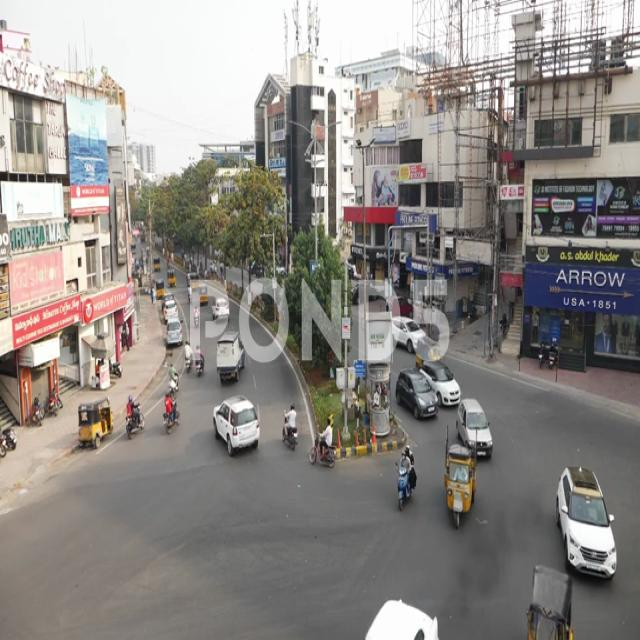car: (555, 471, 619, 579), (212, 400, 257, 457), (397, 368, 437, 420), (466, 409, 496, 455), (438, 366, 463, 404), (158, 286, 176, 306)
motorbike: (397, 446, 417, 516), (126, 396, 146, 440), (282, 403, 299, 451)
rikshaw: (77, 397, 116, 450)
truck: (218, 340, 248, 386)
